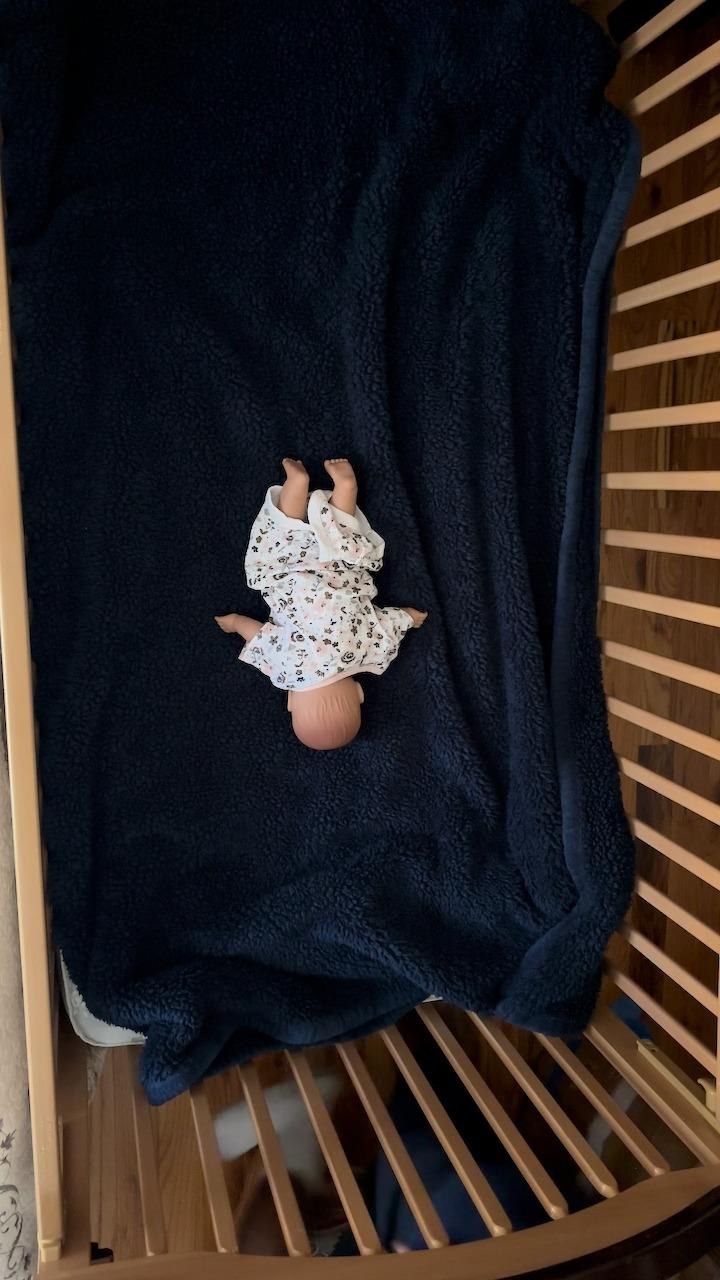baby: (215, 458, 430, 754)
